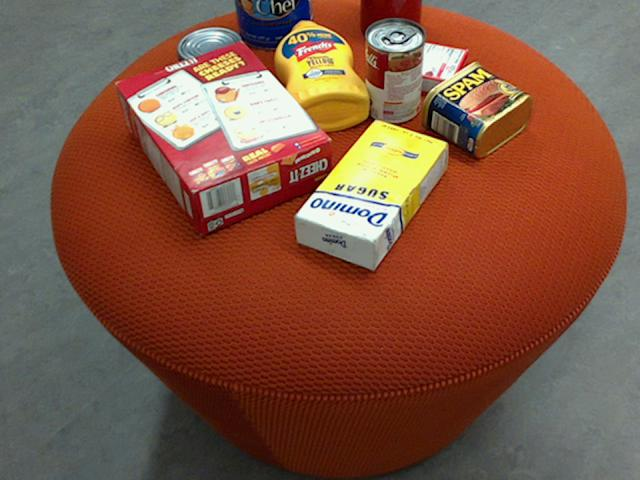cracker_box: (112, 39, 331, 232)
gelatin_box: (384, 38, 468, 97)
large_marker: (380, 0, 396, 34)
master_chef_can: (233, 0, 312, 47)
mug: (358, 0, 421, 41)
mustard_bottle: (273, 20, 368, 131)
potted_meat_can: (419, 61, 530, 157)
sugar_box: (294, 118, 447, 271)
tomato_soup_can: (364, 17, 424, 122)
tuna_fish_can: (174, 27, 245, 84)
